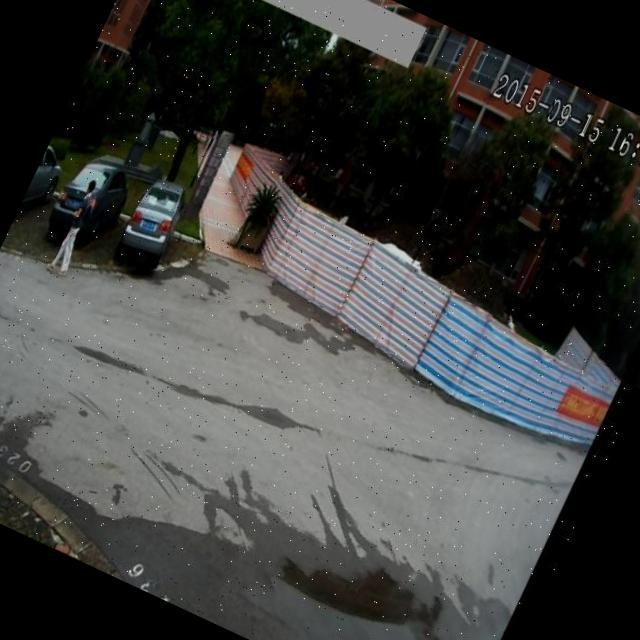person: (42, 174, 110, 282)
